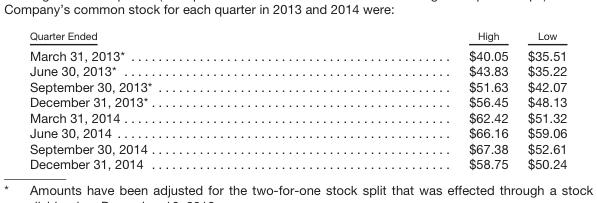table: (28, 29, 566, 171)
table column: (28, 29, 309, 171), (309, 29, 517, 171), (517, 29, 566, 171)
table column header: (28, 29, 566, 44)
table row: (28, 44, 566, 63), (28, 78, 566, 94), (28, 109, 566, 125), (28, 140, 566, 156), (28, 29, 566, 44), (28, 63, 566, 78), (28, 94, 566, 109), (28, 125, 566, 140), (28, 156, 566, 171)
